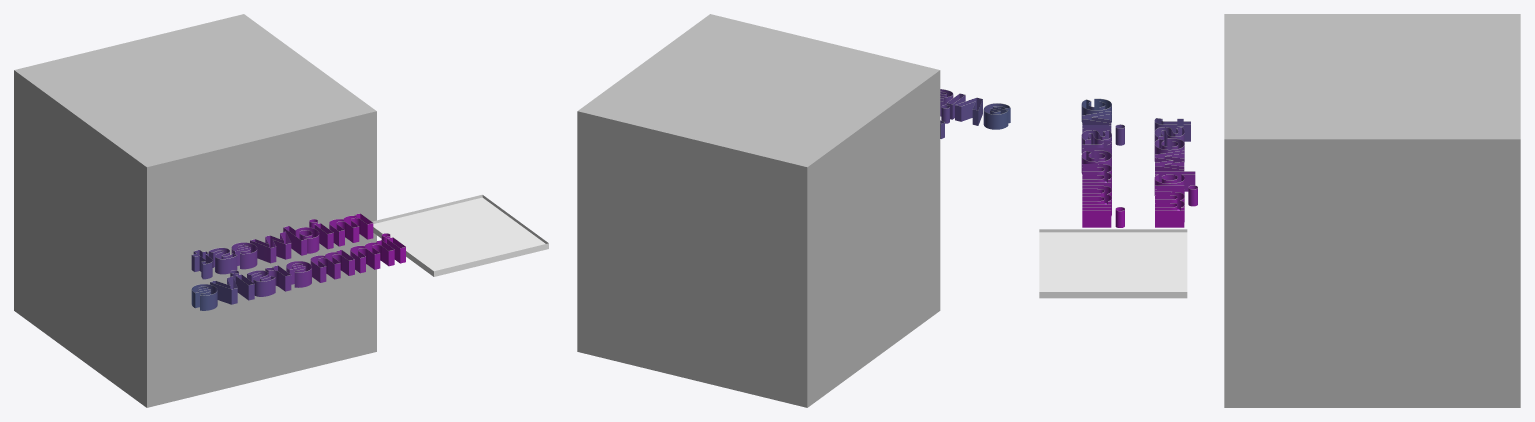
Rendered from ARCard-3.obj.
3 views of the same model, side by side, from view 1: azimuth 30°, elevation 25°; view 2: azimuth 150°, elevation 25°; view 3: azimuth 270°, elevation 25° (orthographic). The views are drawn at different scales.
Visible parts, largest first — view 1: Cube_Cube.001, CardText_Mesh, DetectionPlane_Plane.002; view 2: Cube_Cube.001, CardText_Mesh; view 3: Cube_Cube.001, DetectionPlane_Plane.002, CardText_Mesh.
Boxes of the visible parts, x1,y1,x2,y2 form: Cube_Cube.001: [14, 14, 376, 407]; CardText_Mesh: [191, 213, 405, 310]; DetectionPlane_Plane.002: [372, 194, 548, 276]; Cube_Cube.001: [577, 14, 940, 407]; CardText_Mesh: [940, 89, 1010, 138]; Cube_Cube.001: [1224, 14, 1520, 407]; DetectionPlane_Plane.002: [1039, 229, 1187, 298]; CardText_Mesh: [1081, 98, 1197, 227].
Size of the model in its own units: 2.86 by 2 by 3.25.
